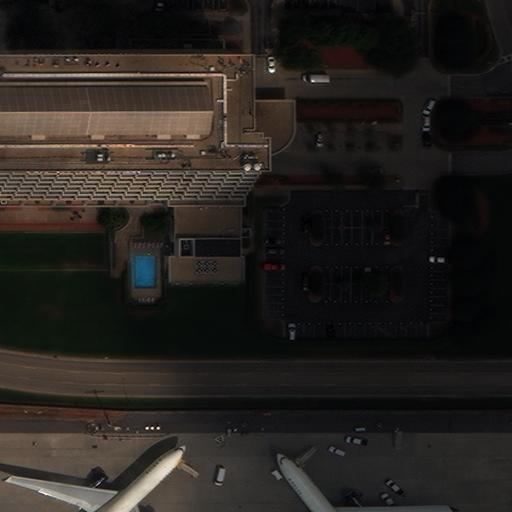Large Civil Transport: (11, 443, 188, 512), (273, 449, 445, 512)
